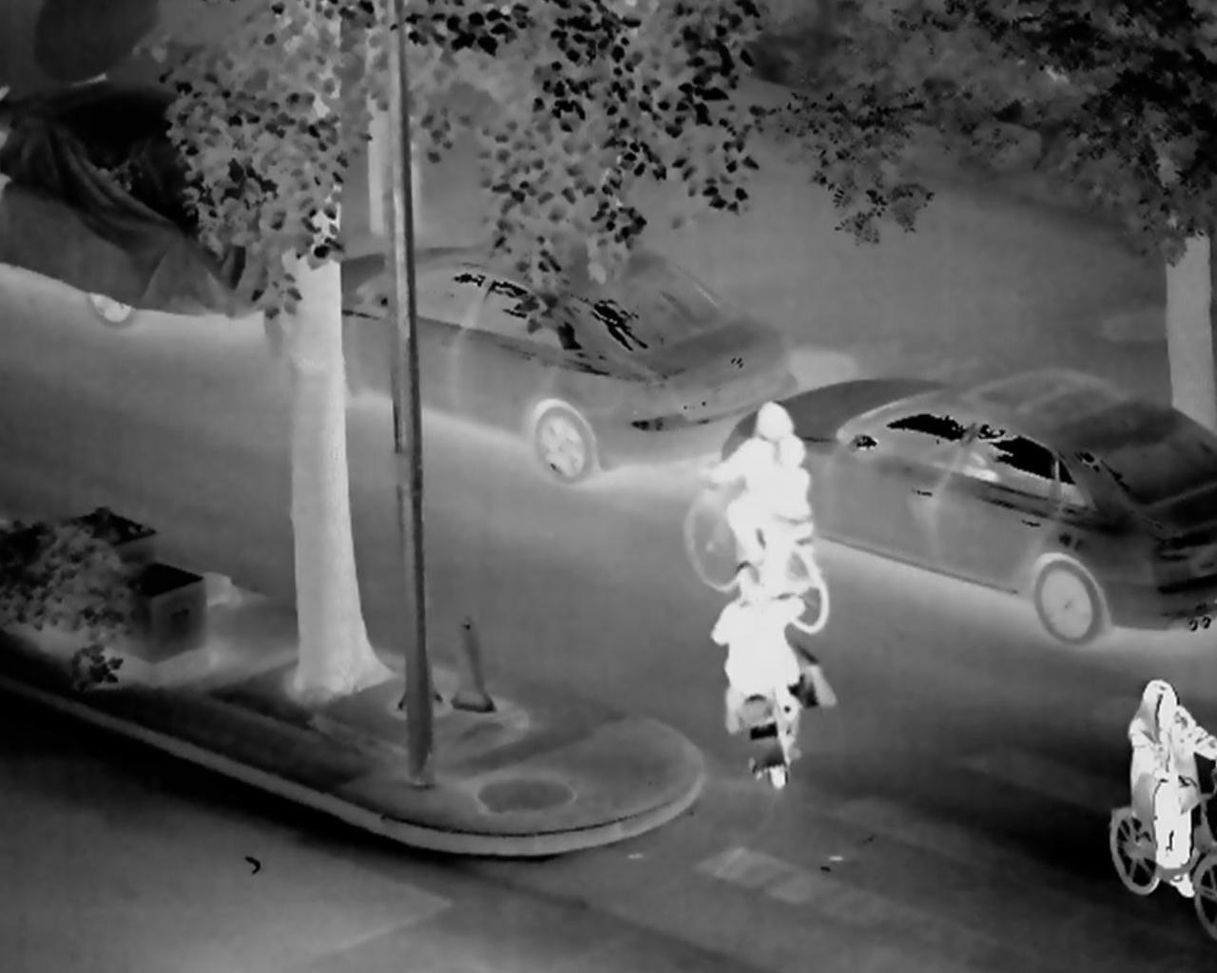person: (1094, 662, 1217, 909), (701, 390, 822, 608), (691, 554, 809, 746)
